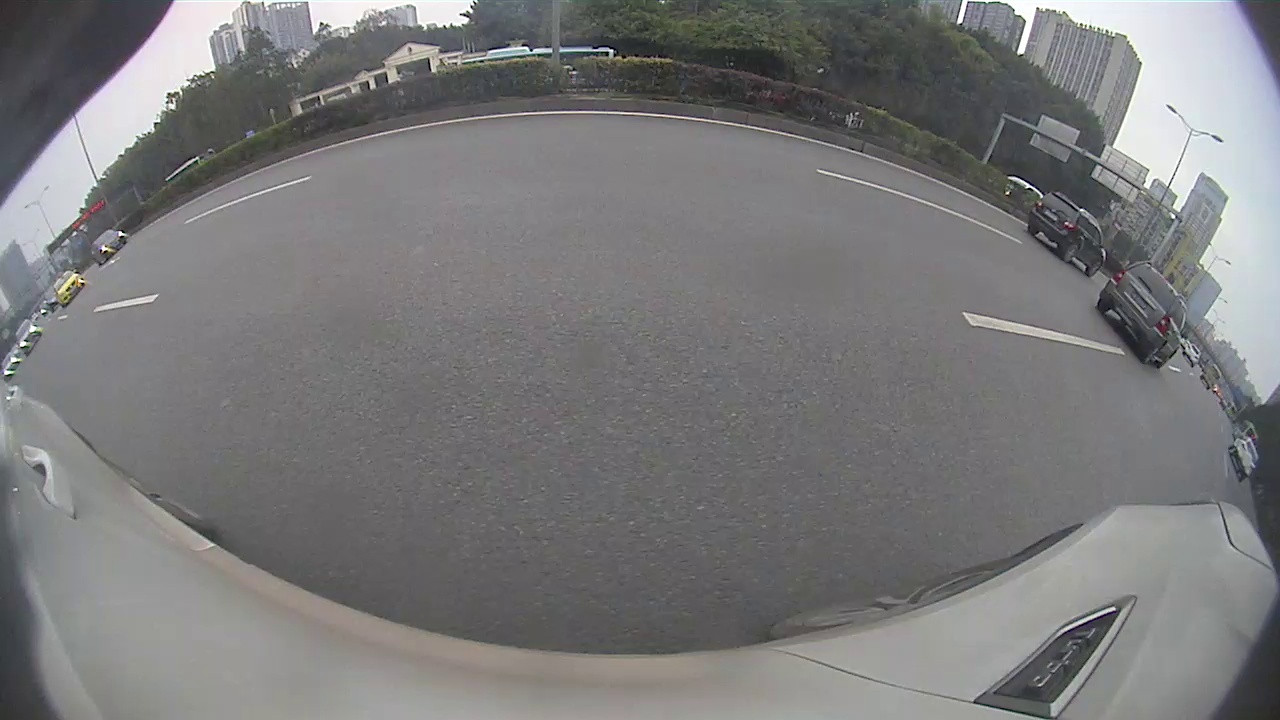car: (1097, 260, 1188, 369), (1028, 185, 1107, 279), (86, 228, 129, 265), (1228, 434, 1260, 483), (51, 271, 86, 308), (14, 318, 43, 356)
front: (1083, 260, 1102, 278)
rear: (1056, 239, 1080, 263)
